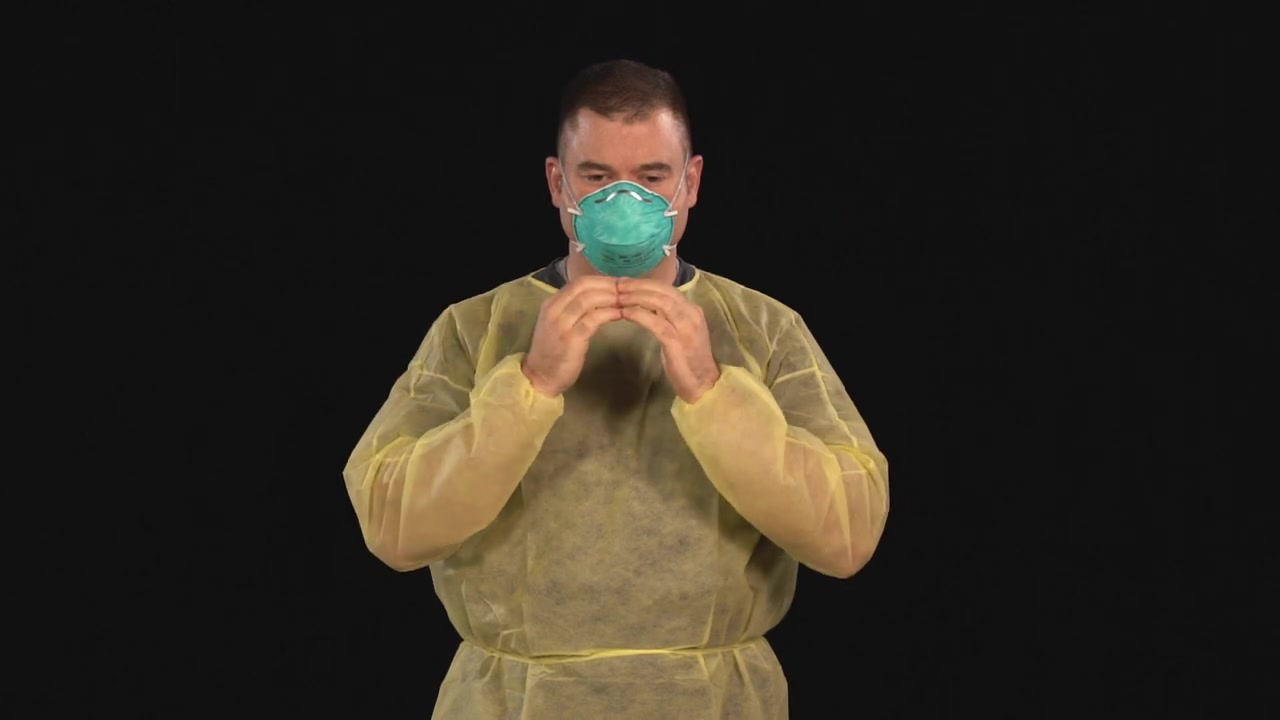Coverall: (397, 278, 833, 720)
with_mask: (578, 173, 666, 275)
